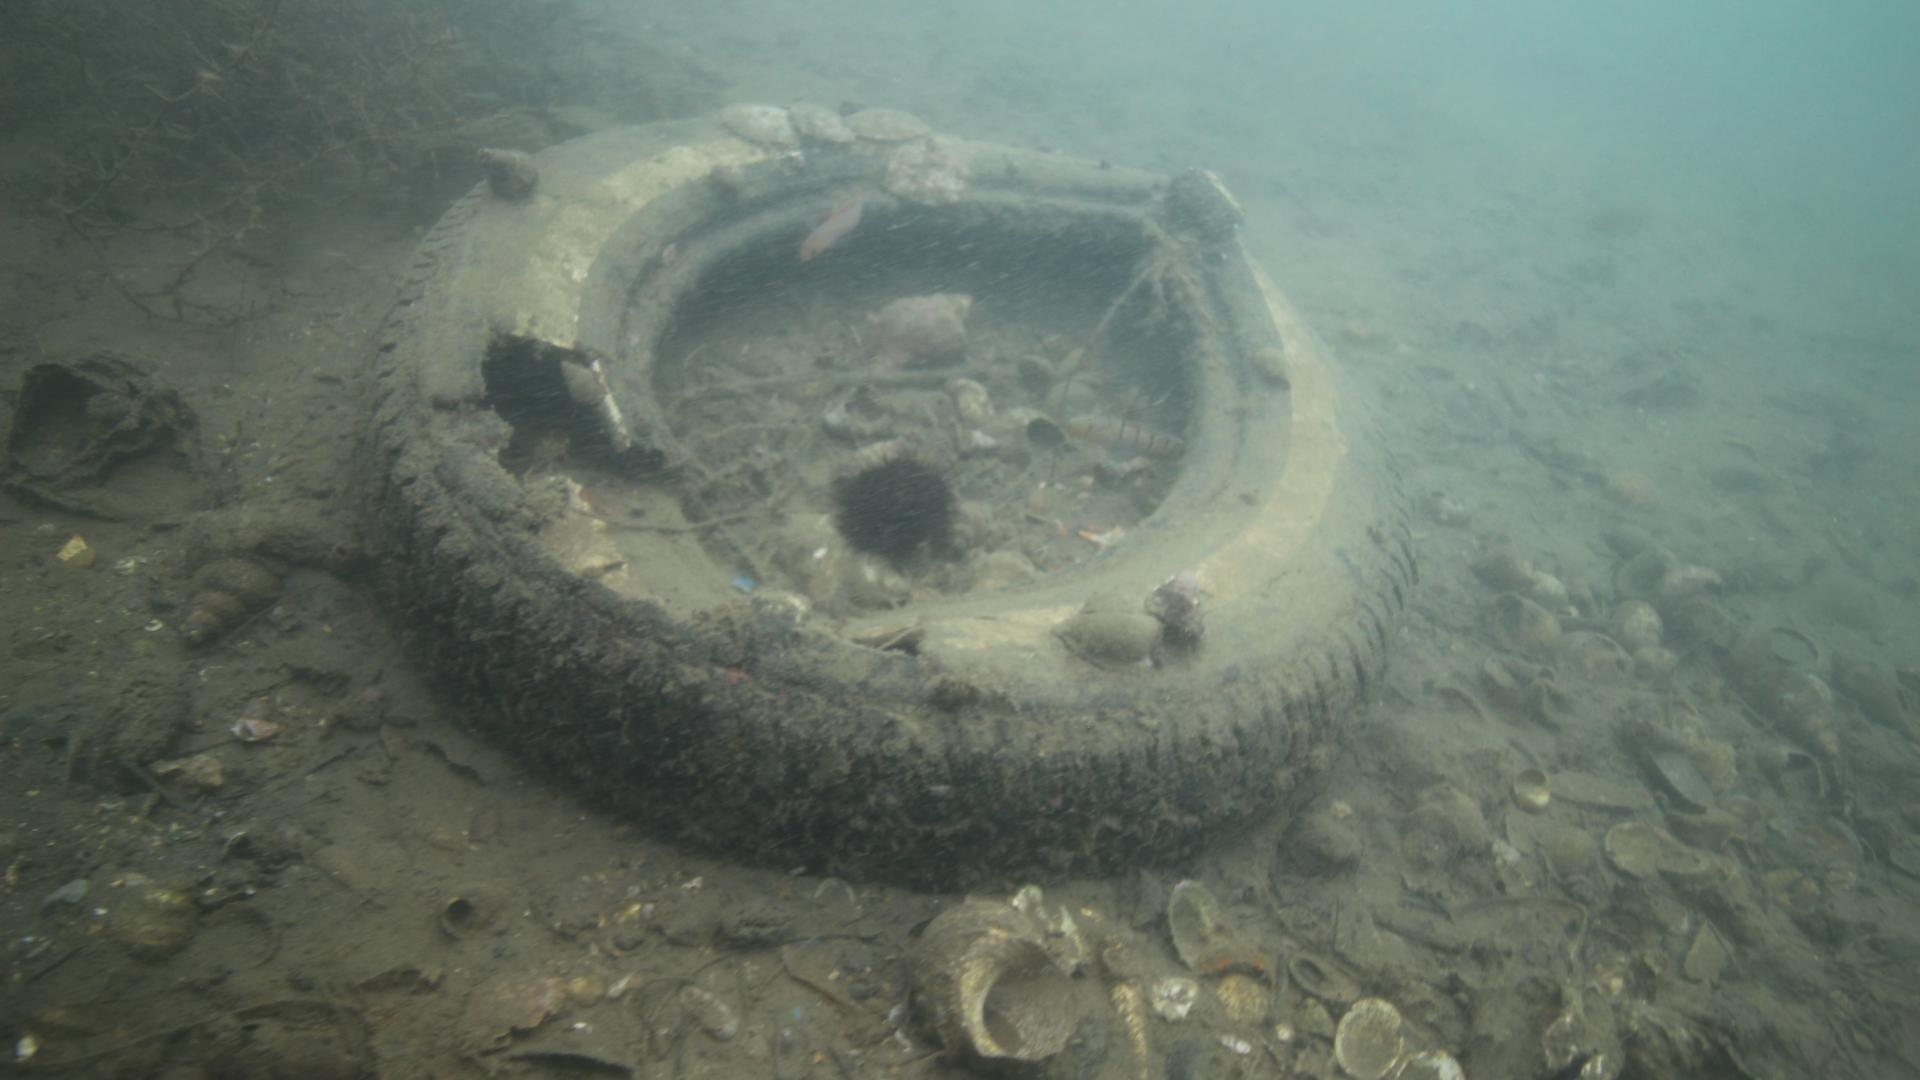tire: (364, 113, 1422, 891)
